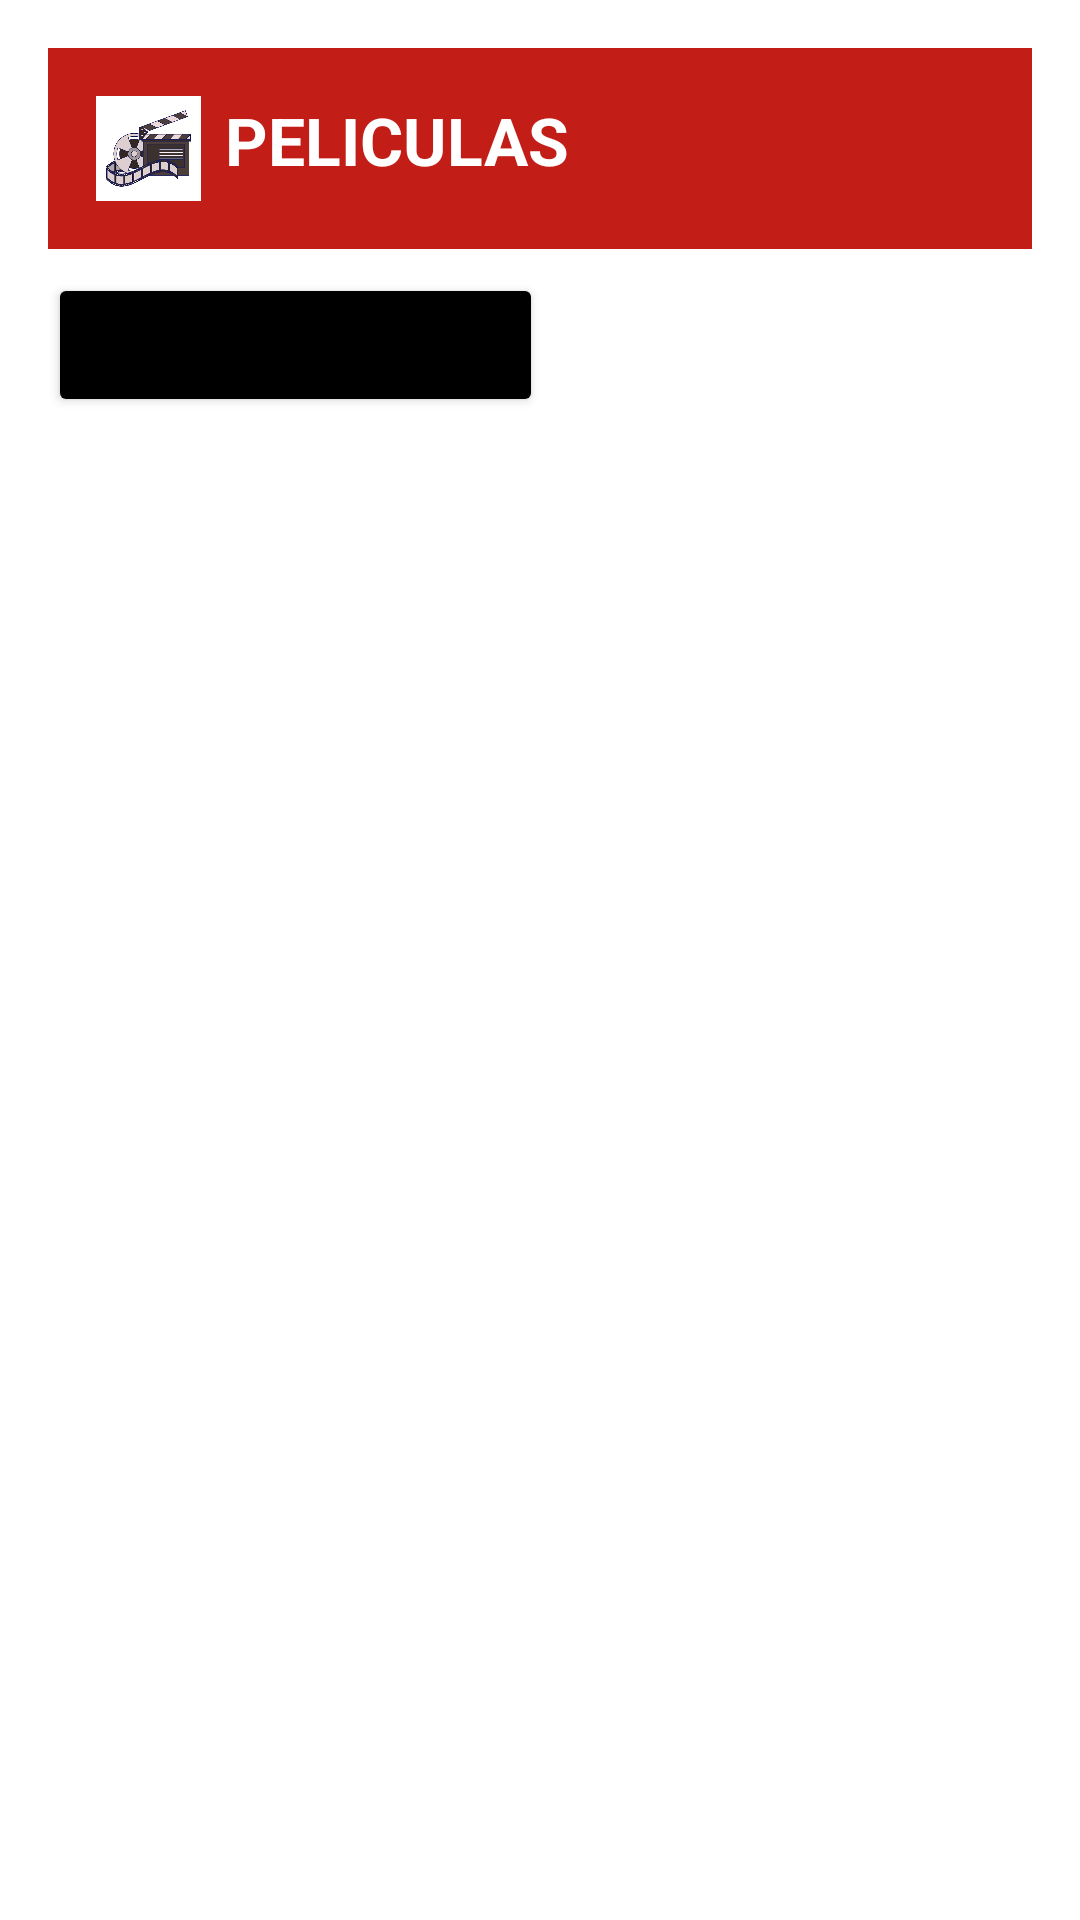

Icon click points for this 1080 x 1920 phone screenshot, format point (x, y):
cinema: point (148, 148)
